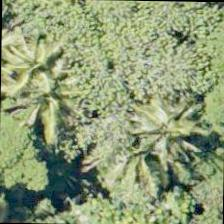Kelapa_Sawit: (120, 84, 212, 176), (3, 51, 94, 143), (0, 22, 84, 112)
